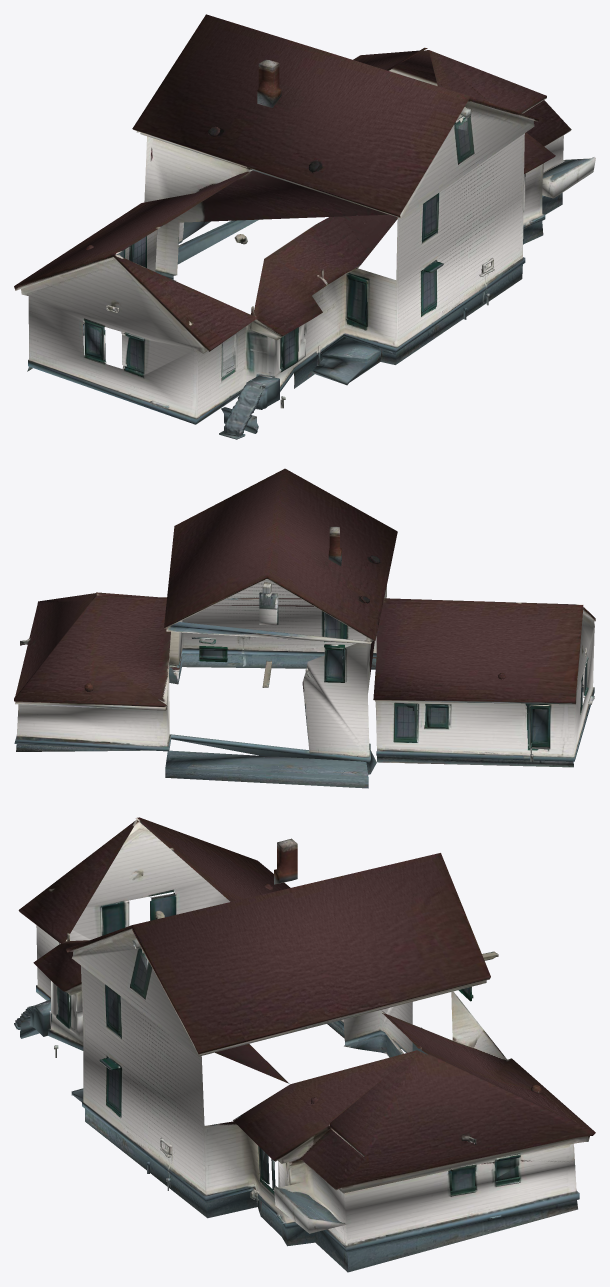
The model's file is 019ffd08-9237-7a67-8a10-90945945fd36.glb.
3 views of the same model, one above another, from view 1: azimuth 30°, elevation 25°; view 2: azimuth 150°, elevation 25°; view 3: azimuth 270°, elevation 25° (orthographic). The views are drawn at different scales.
Visible parts, largest first — view 1: tripo_node_778e2509-4a31-4f67-998f-b0d0c04417a3; view 2: tripo_node_778e2509-4a31-4f67-998f-b0d0c04417a3; view 3: tripo_node_778e2509-4a31-4f67-998f-b0d0c04417a3.
Part boxes in pixels (x1,y1,x2,y2): tripo_node_778e2509-4a31-4f67-998f-b0d0c04417a3: [14, 14, 595, 439]; tripo_node_778e2509-4a31-4f67-998f-b0d0c04417a3: [14, 468, 595, 788]; tripo_node_778e2509-4a31-4f67-998f-b0d0c04417a3: [14, 817, 595, 1272].
Bounding box in the file's own units: 1 × 0.3953 × 0.771.
1 material, 1 textured.
